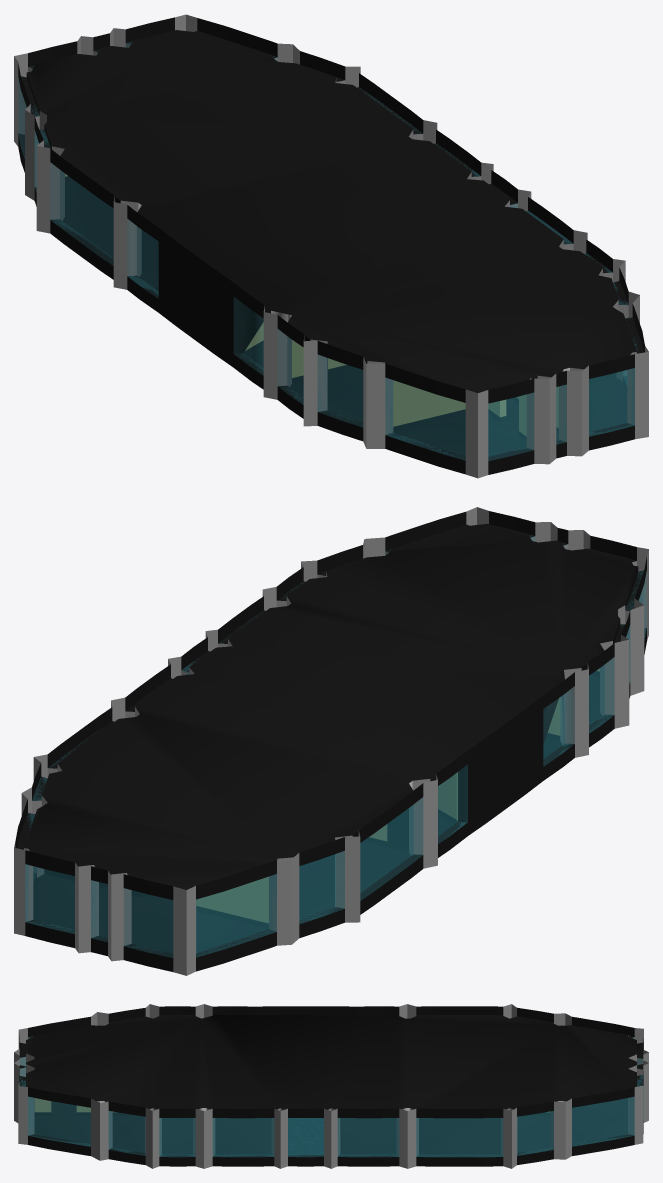
File: Floor_1.fbx
3 views of the same model, one above another, from view 1: azimuth 30°, elevation 25°; view 2: azimuth 150°, elevation 25°; view 3: azimuth 270°, elevation 25° (orthographic). The views are drawn at different scales.
Parts seen in each view (by area): view 1: Floor, Glasses, Walls; view 2: Floor, Glasses, Walls; view 3: Floor, Glasses, Glass, Walls.
Part boxes in pixels (box(x1,y1,x2,y2)): Floor: box(14, 14, 648, 478); Glasses: box(18, 42, 636, 460); Walls: box(65, 174, 615, 441); Floor: box(14, 507, 648, 975); Glasses: box(25, 535, 646, 957); Walls: box(44, 668, 599, 928); Floor: box(14, 1004, 648, 1168); Glasses: box(20, 1036, 643, 1157); Glass: box(288, 1118, 323, 1156); Walls: box(35, 1098, 549, 1115).
Bounding box in the file's own units: 588 × 1473 × 148.
